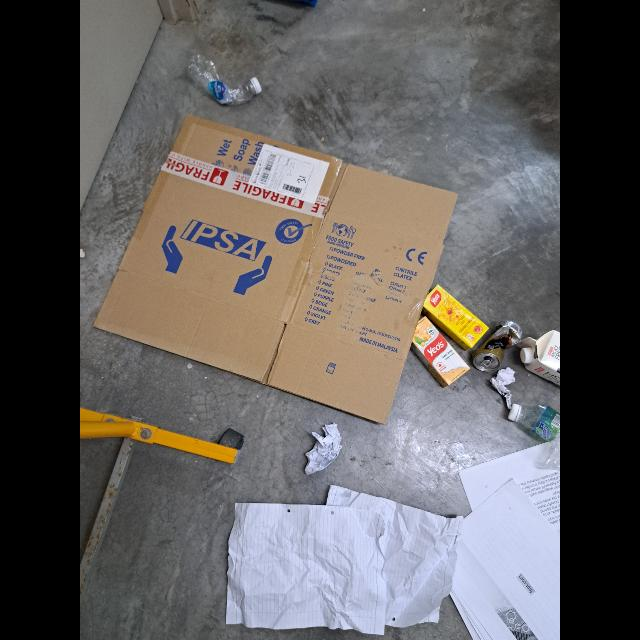aba de lata: (480, 360, 490, 368)
caixinha: (424, 284, 490, 352), (410, 317, 470, 387), (518, 329, 560, 386)
garrafa plástica: (189, 55, 255, 105), (520, 404, 560, 470)
lata: (472, 322, 522, 372)
papel: (226, 502, 388, 636), (328, 484, 464, 628), (448, 480, 560, 632), (460, 438, 560, 514), (304, 423, 342, 475), (488, 368, 516, 408)
papelão: (93, 114, 459, 426)
tampa plástica: (508, 404, 520, 422), (250, 78, 262, 94)
